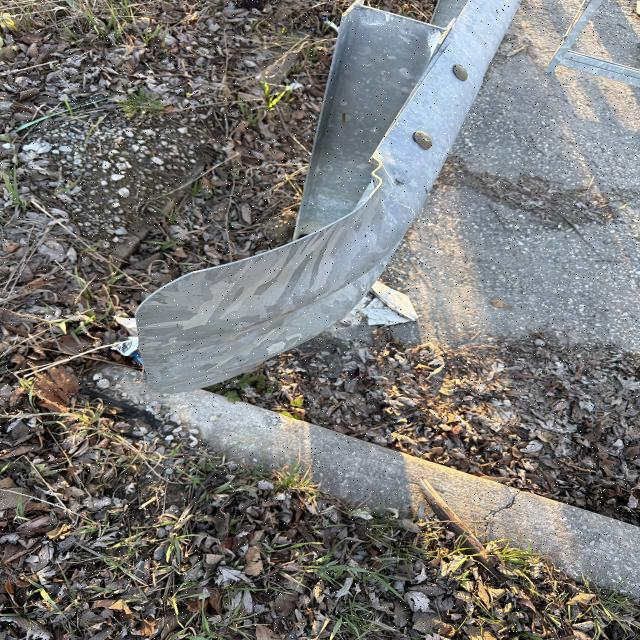Guard rail: (154, 8, 532, 360)
